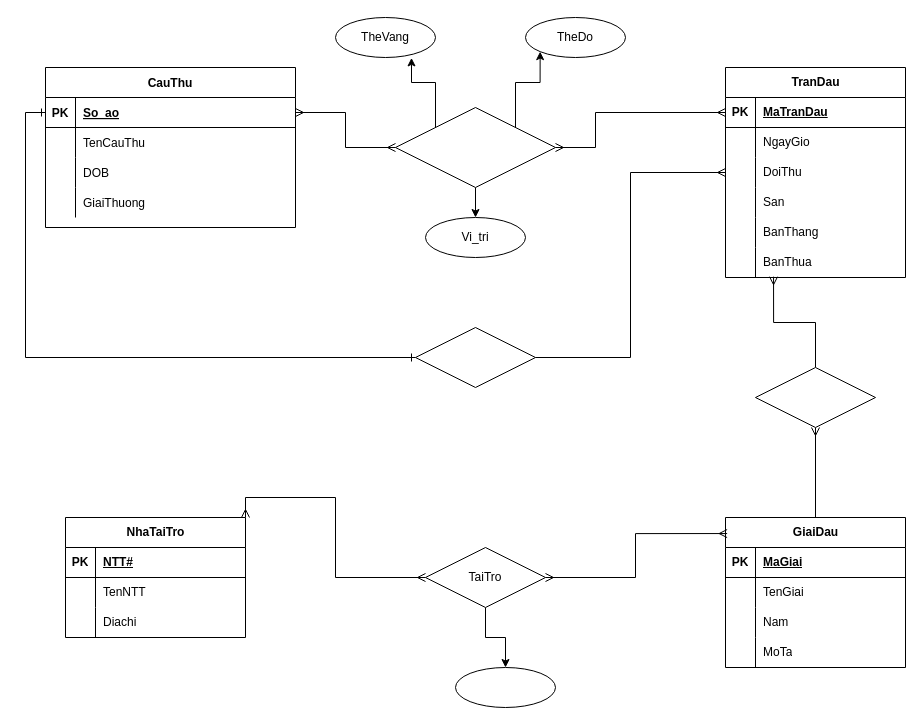
This 923x725 diagram has some shape labels left out. Each missing label, with the centre of its shape:
"Chơi" goes at (475,147).
"DoiTruong" goes at (475,357).
"SoTieng" goes at (505,687).
"Thuoc" goes at (815,397).
